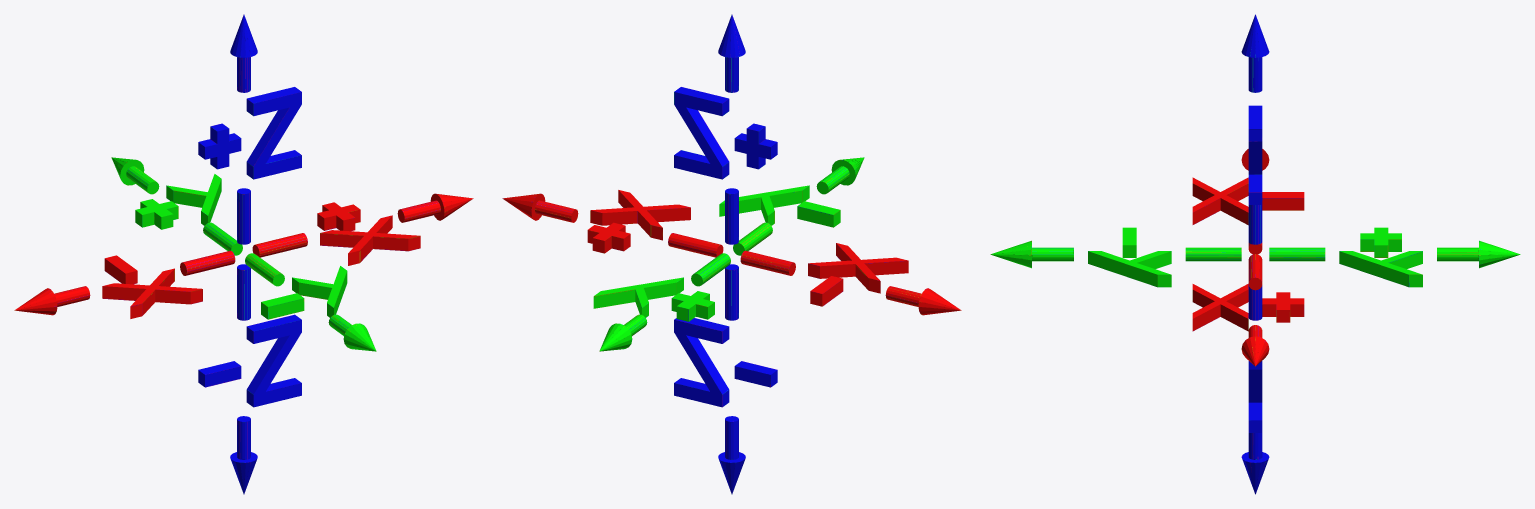
File: XYZ.gltf
3 renders of one model, left to right at view 1: azimuth 30°, elevation 25°; view 2: azimuth 150°, elevation 25°; view 3: azimuth 270°, elevation 25°, orthographic.
Visible parts, largest first — view 1: XYZ; view 2: XYZ; view 3: XYZ.
Boxes of the visible parts, <box> form: XYZ: <box>14,14,473,494</box>; XYZ: <box>502,14,961,494</box>; XYZ: <box>990,14,1520,494</box>.
Size of the model in its own units: 1 by 1 by 1.
1 material, 1 textured.
